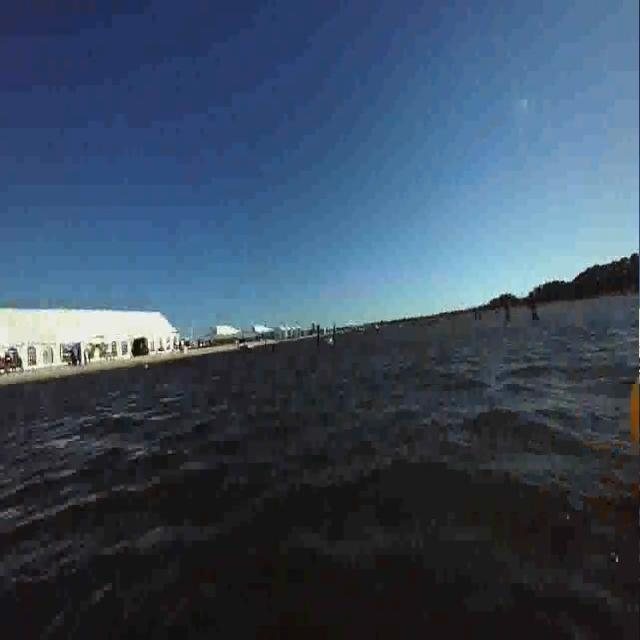yellow-buoy: (630, 374, 640, 449)
